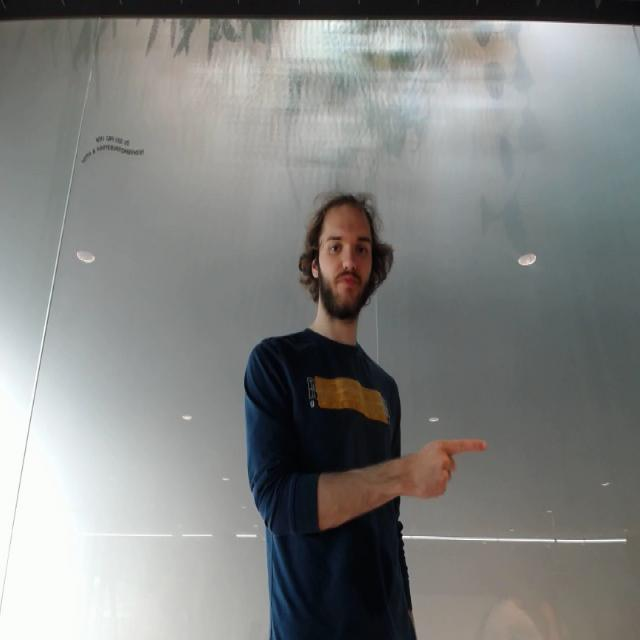right: (402, 433, 495, 499)
